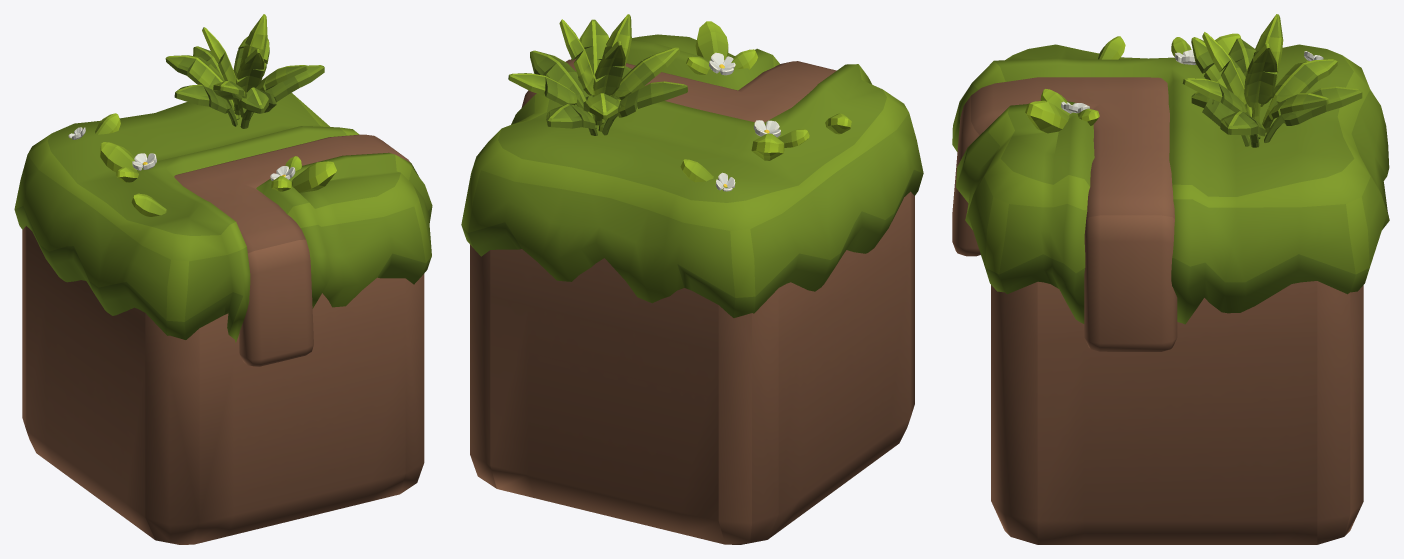
Rendered from Spring10.fbx.
The picture shows the model from 3 angles, left to right: view 1: azimuth 30°, elevation 25°; view 2: azimuth 150°, elevation 25°; view 3: azimuth 270°, elevation 25°; orthographic projection. The views are drawn at different scales.
Visible parts, largest first — view 1: Spring10, Spring_Cube10.002, Road10.001, Spring_Cube_10.002; view 2: Spring10, Spring_Cube10.002, Spring_Cube_10.002, Road10.001; view 3: Spring10, Spring_Cube10.002, Road10.001, Spring_Cube_10.002.
Part boxes in pixels (x1,y1,x2,y2): Spring10: [22, 226, 424, 544]; Spring_Cube10.002: [14, 93, 432, 342]; Road10.001: [174, 134, 410, 366]; Spring_Cube_10.002: [68, 14, 336, 216]; Spring10: [470, 191, 914, 544]; Spring_Cube10.002: [461, 34, 923, 317]; Spring_Cube_10.002: [508, 14, 851, 191]; Road10.001: [521, 59, 836, 122]; Spring10: [991, 281, 1363, 544]; Spring_Cube10.002: [952, 44, 1389, 324]; Road10.001: [952, 77, 1177, 351]; Spring_Cube_10.002: [1025, 14, 1362, 147].
Size of the model in its own units: 116 by 144 by 117.
